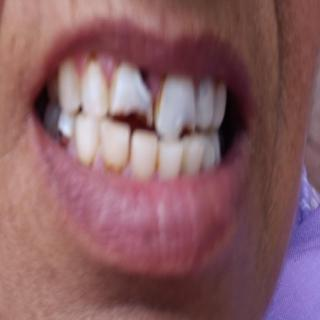cavities: (130, 48, 160, 124), (54, 115, 72, 158)
stains: (99, 125, 133, 179), (156, 67, 176, 125), (75, 143, 97, 185), (150, 139, 168, 174)
